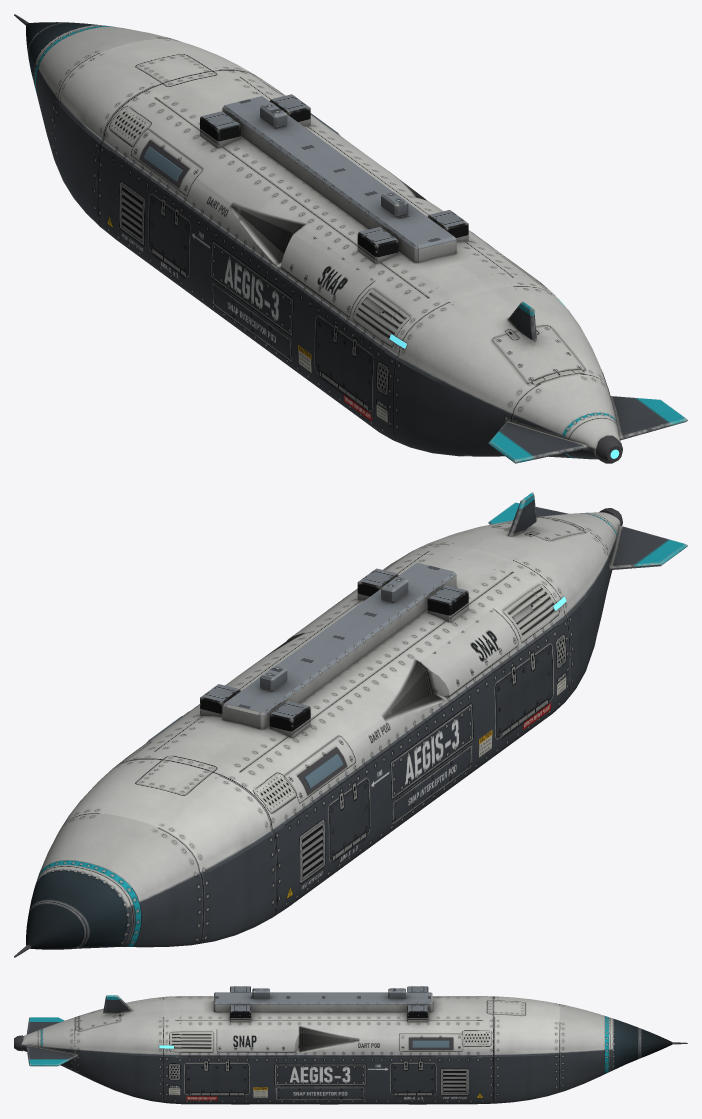
File: AegisPod.fbx
3 views of the same model, one above another, from view 1: azimuth 30°, elevation 25°; view 2: azimuth 150°, elevation 25°; view 3: azimuth 270°, elevation 25° (orthographic). The views are drawn at different scales.
Parts seen in each view (by area): view 1: Skin, Dark; view 2: Skin, Dark; view 3: Skin, Dark, Glass.
Part boxes in pixels (box(x1,y1,x2,y2)): Skin: box(26, 22, 687, 463); Dark: box(14, 14, 622, 463); Skin: box(26, 492, 687, 949); Dark: box(14, 508, 622, 957); Skin: box(21, 986, 672, 1104); Dark: box(14, 1035, 687, 1051); Glass: box(412, 1040, 449, 1047).
Size of what is drawn, in the model's own units: 39.7 by 34.41 by 228.
Materials: 4 (1 with a texture image).
